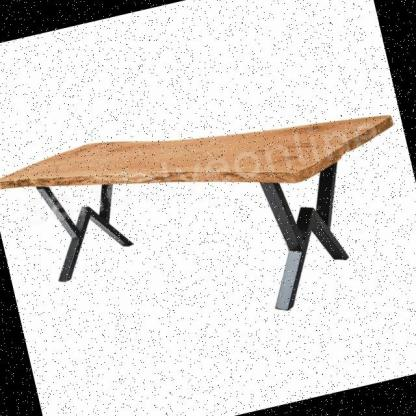Table: (0, 52, 416, 385)
